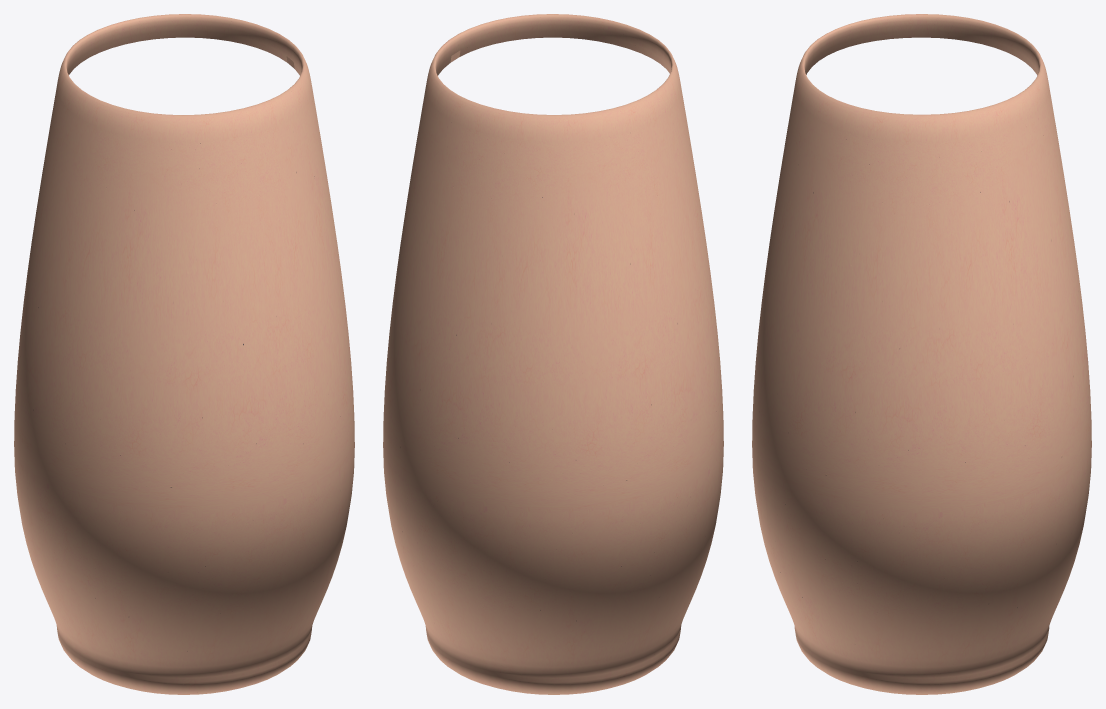
The model's file is vase.glb.
3 views of the same model, side by side, from view 1: azimuth 30°, elevation 25°; view 2: azimuth 150°, elevation 25°; view 3: azimuth 270°, elevation 25° (orthographic).
Visible parts, largest first — view 1: house_interior:Teapot001; view 2: house_interior:Teapot001; view 3: house_interior:Teapot001.
Boxes of the visible parts, left/top/right/bottom form: house_interior:Teapot001: left=14, top=14, right=354, bottom=694; house_interior:Teapot001: left=383, top=14, right=723, bottom=694; house_interior:Teapot001: left=752, top=14, right=1091, bottom=694.
Bounding box in the file's own units: 0.4556 × 0.8813 × 0.4556.
1 material, 1 textured.
